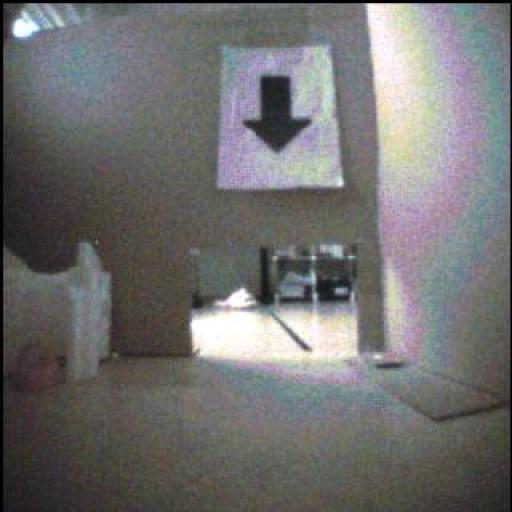arrow: (245, 76, 312, 153)
